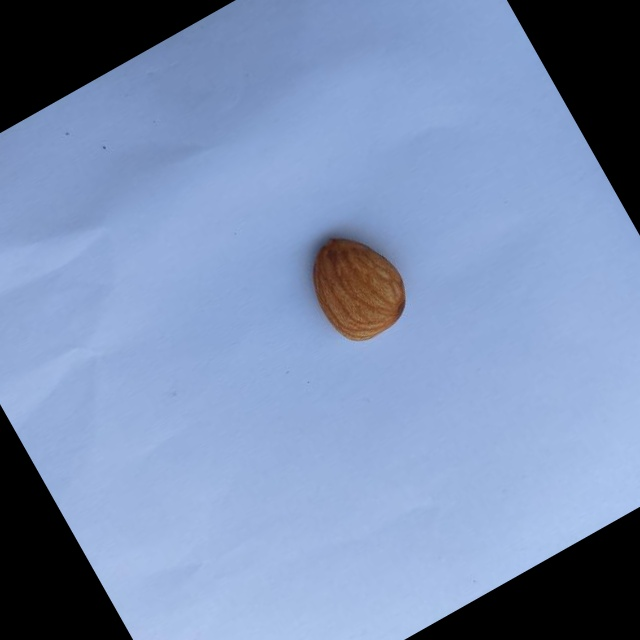grade1: (281, 208, 429, 364)
